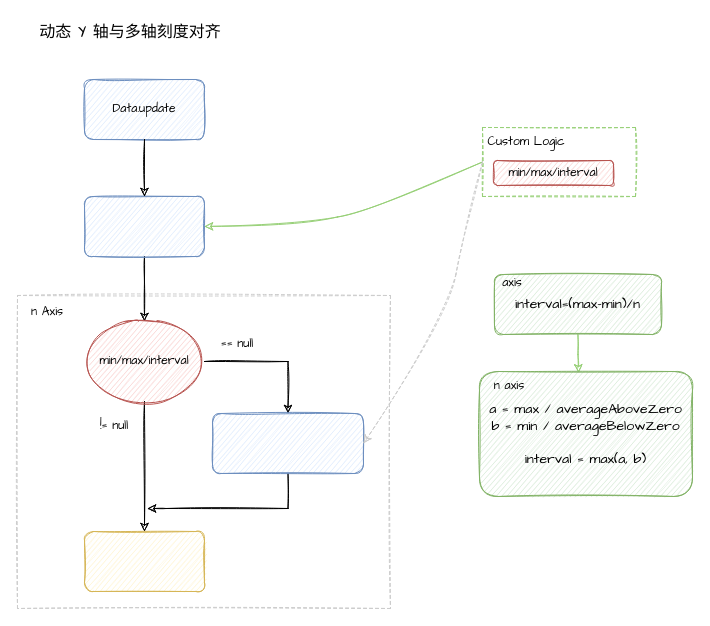
Some shapes in this 710 by 626 pixel diagram are drawn without their labels. Here are the shapes that lost their labels. From the top down, the centre of each, then its label:
(144,226): Grid.update()
(288,443): IntervalScale.update()
(144,561): AxisView.render()
